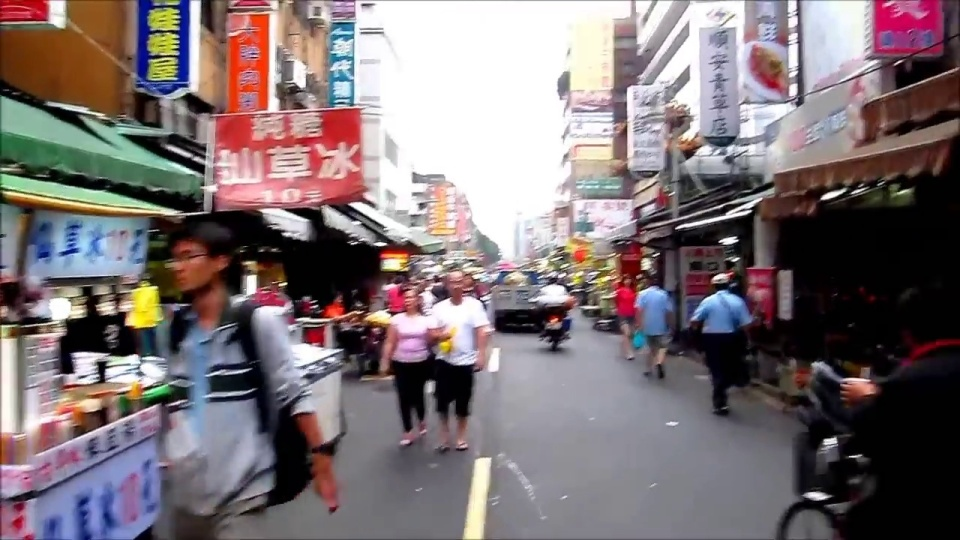person_head: (168, 225, 243, 297), (903, 288, 960, 347), (444, 268, 465, 294), (708, 272, 730, 292), (400, 291, 420, 312), (648, 273, 660, 288), (544, 272, 558, 283), (621, 274, 632, 288), (333, 294, 343, 306)
person_vbox: (154, 223, 342, 540), (834, 288, 959, 540), (424, 266, 493, 454), (376, 290, 444, 448), (689, 270, 756, 417), (636, 272, 678, 381), (531, 270, 574, 348), (609, 273, 639, 365), (321, 291, 347, 321)
